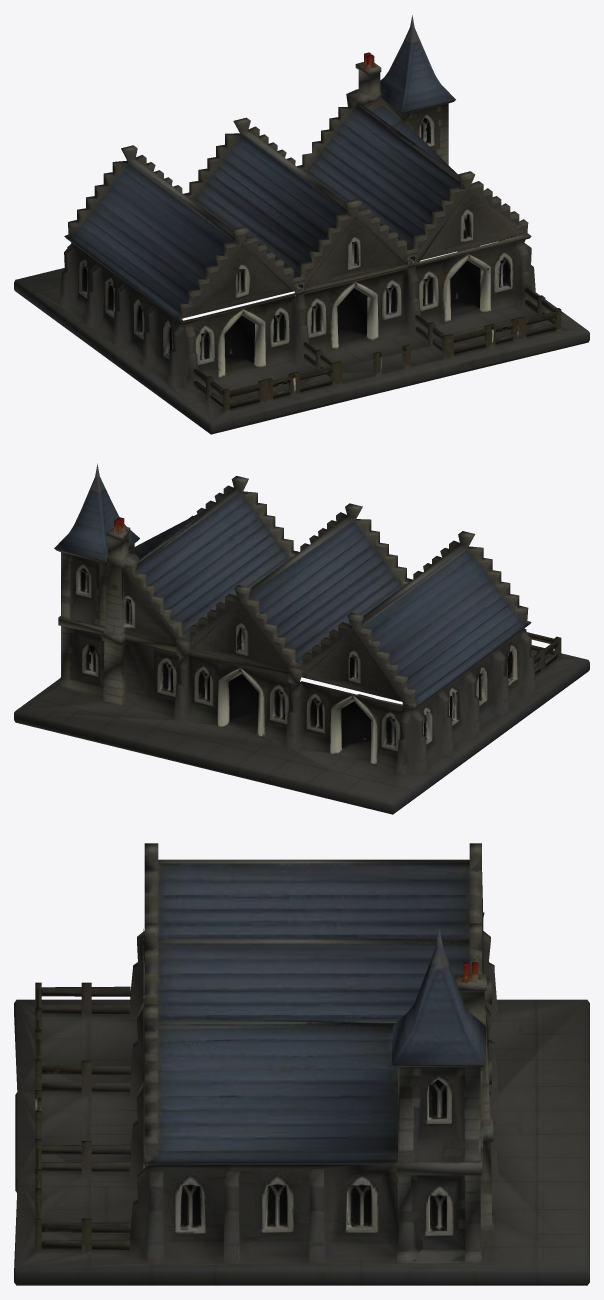
Rendered from slaughter.glb.
3 views of the same model, one above another, from view 1: azimuth 30°, elevation 25°; view 2: azimuth 150°, elevation 25°; view 3: azimuth 270°, elevation 25° (orthographic). The views are drawn at different scales.
Parts seen in each view (by area): view 1: tripo_node_c2dae393-077c-45b7-8a61-5d089; view 2: tripo_node_c2dae393-077c-45b7-8a61-5d089; view 3: tripo_node_c2dae393-077c-45b7-8a61-5d089.
Boxes of the visible parts, <box> form: tripo_node_c2dae393-077c-45b7-8a61-5d089: <box>14,15,589,434</box>; tripo_node_c2dae393-077c-45b7-8a61-5d089: <box>14,463,589,814</box>; tripo_node_c2dae393-077c-45b7-8a61-5d089: <box>14,843,589,1285</box>.
Size of the model in its own units: 34.64 by 20 by 31.12.
Materials: 1 (1 with a texture image).
